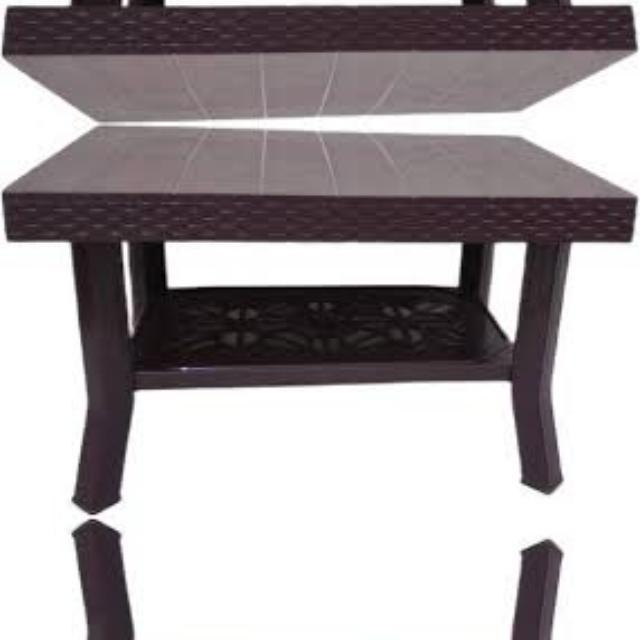obstacle: (7, 129, 636, 449), (6, 0, 635, 117), (6, 584, 635, 640)
